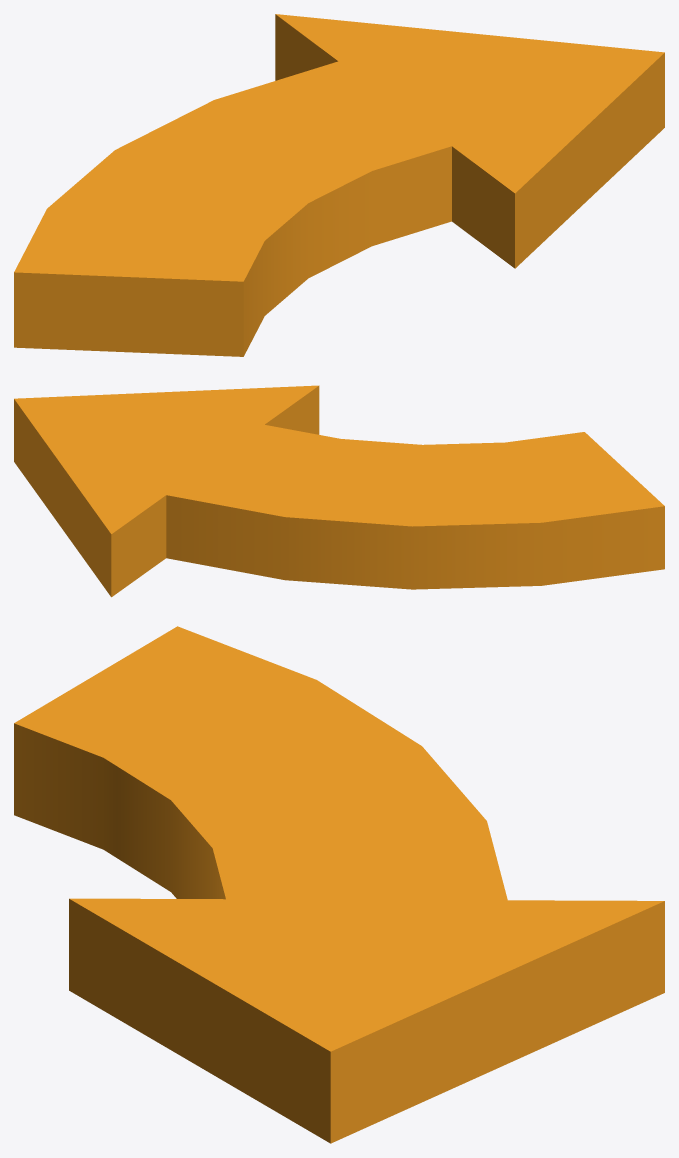
File: SM_Icon_Arrow_Long_Curve_03.fbx
3 renders of one model, top to bottom at view 1: azimuth 30°, elevation 25°; view 2: azimuth 150°, elevation 25°; view 3: azimuth 270°, elevation 25°, orthographic. The views are drawn at different scales.
Parts seen in each view (by area): view 1: SM_Icon_Arrow_Long_Curve_03; view 2: SM_Icon_Arrow_Long_Curve_03; view 3: SM_Icon_Arrow_Long_Curve_03.
Part boxes in pixels (bbox=[...]): SM_Icon_Arrow_Long_Curve_03: bbox=[14, 14, 664, 356]; SM_Icon_Arrow_Long_Curve_03: bbox=[14, 385, 664, 597]; SM_Icon_Arrow_Long_Curve_03: bbox=[14, 626, 664, 1143].
Bounding box in the file's own units: 76.47 × 7.71 × 49.45.
